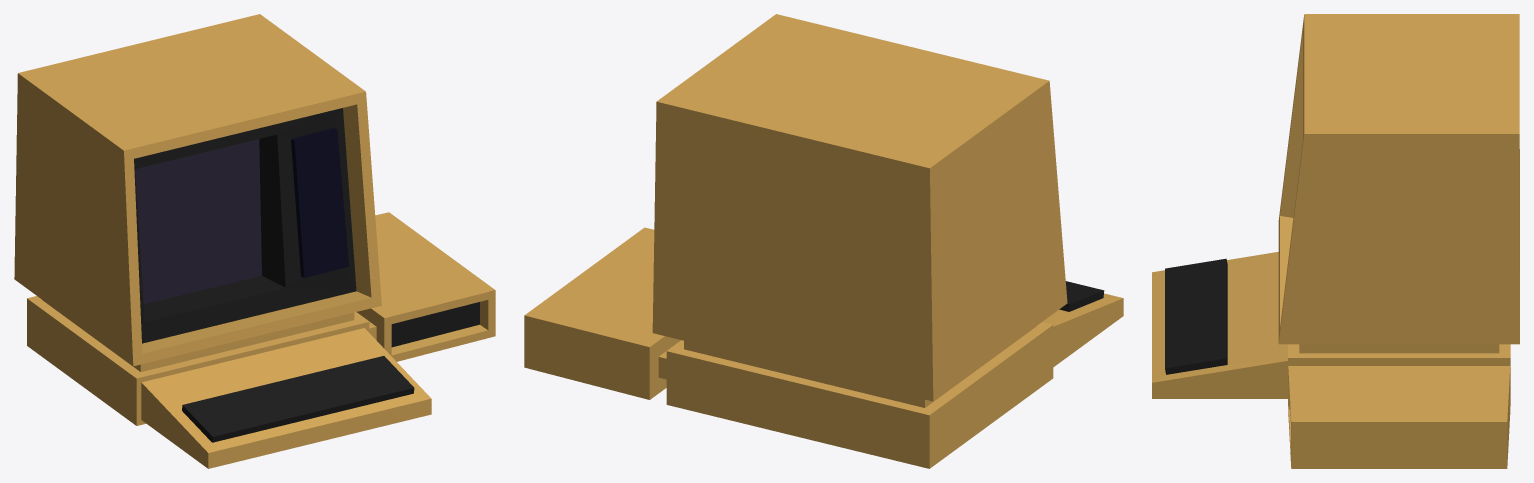
The model's file is hopper_computer.FBX.
3 views of the same model, side by side, from view 1: azimuth 30°, elevation 25°; view 2: azimuth 150°, elevation 25°; view 3: azimuth 270°, elevation 25° (orthographic). The views are drawn at different scales.
Parts seen in each view (by area): view 1: Box001; view 2: Box001; view 3: Box001.
Part boxes in pixels (x1,y1,x2,y2): Box001: [14, 14, 495, 468]; Box001: [524, 14, 1123, 468]; Box001: [1152, 14, 1519, 468].
Size of the model in its own units: 38.34 by 26.92 by 32.66.
